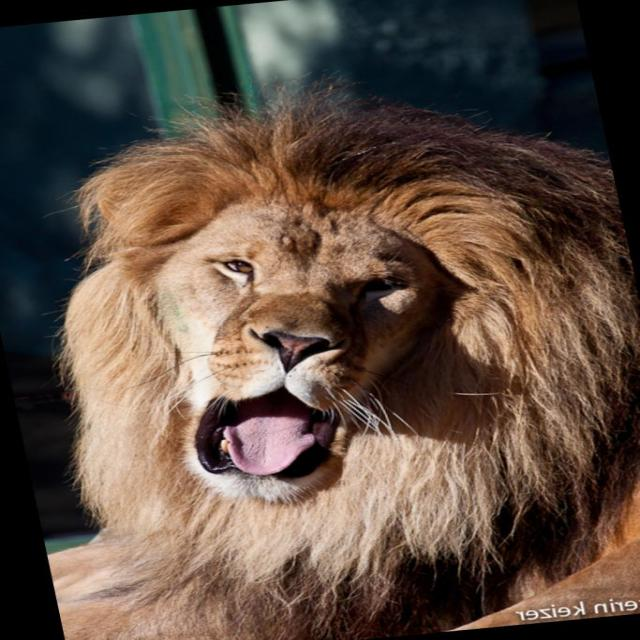Lion: (0, 43, 639, 639)
